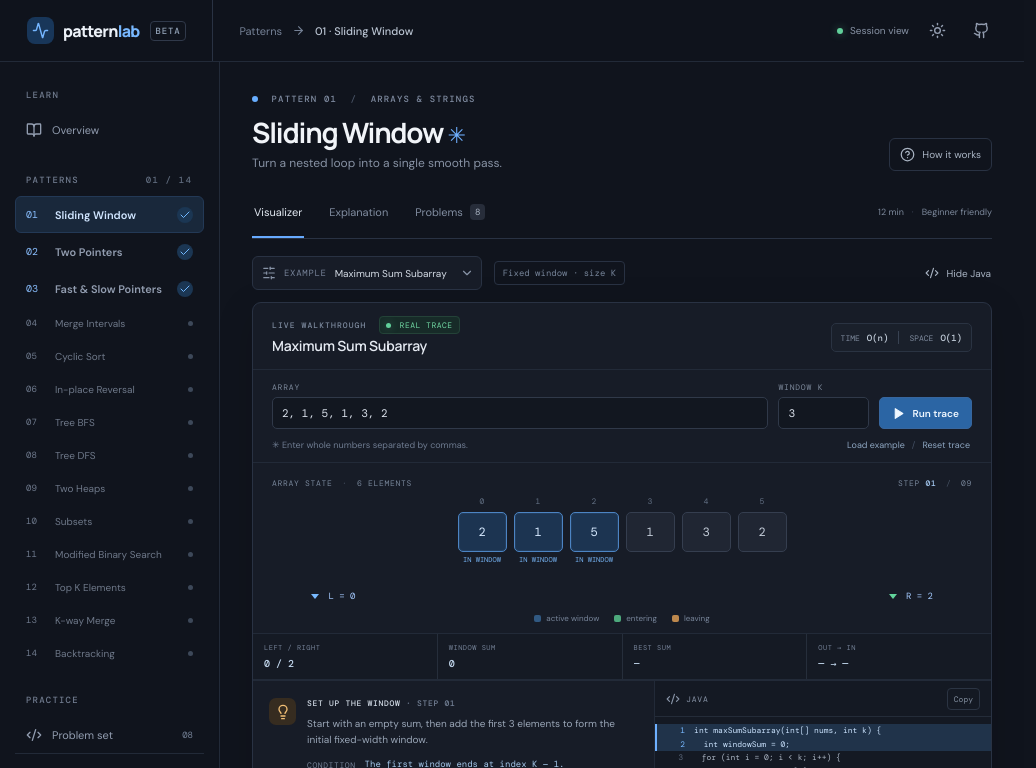
Test: PatternLab learning interface › validates custom Two Pointers input and preserves a valid trace
Click the button "02 Two Pointers" at coordinates (110, 252), box [15, 233, 204, 270]
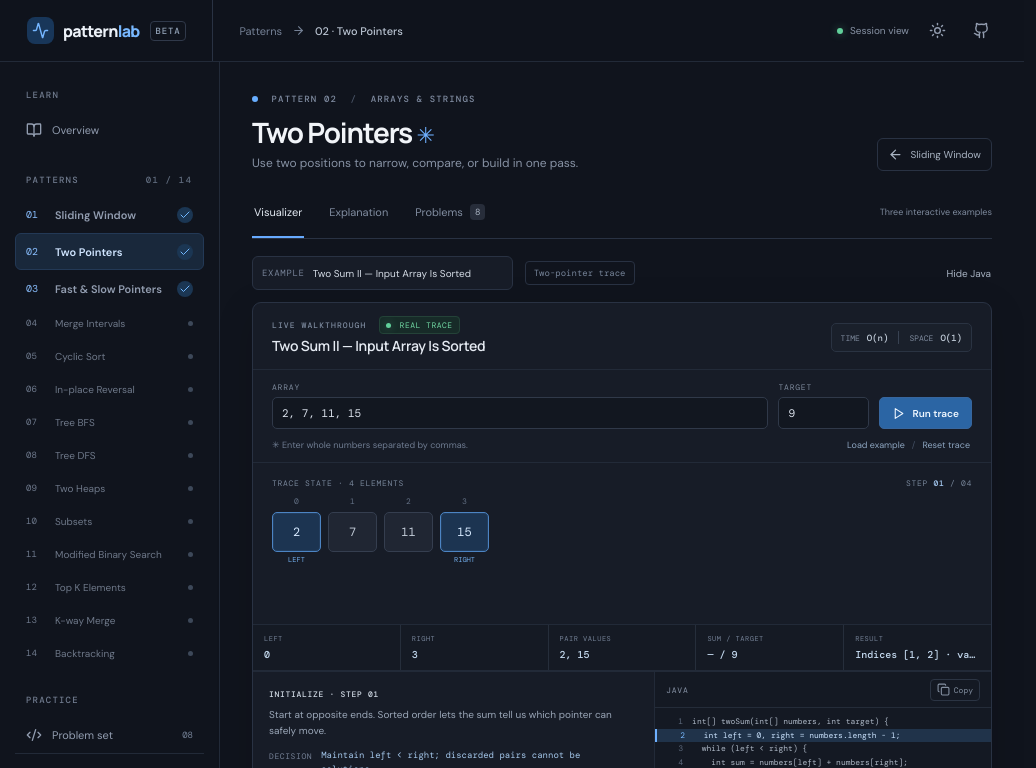
Replace the text in the field named "Array input" with "3, 1" at coordinates (520, 413), box [272, 397, 768, 429]
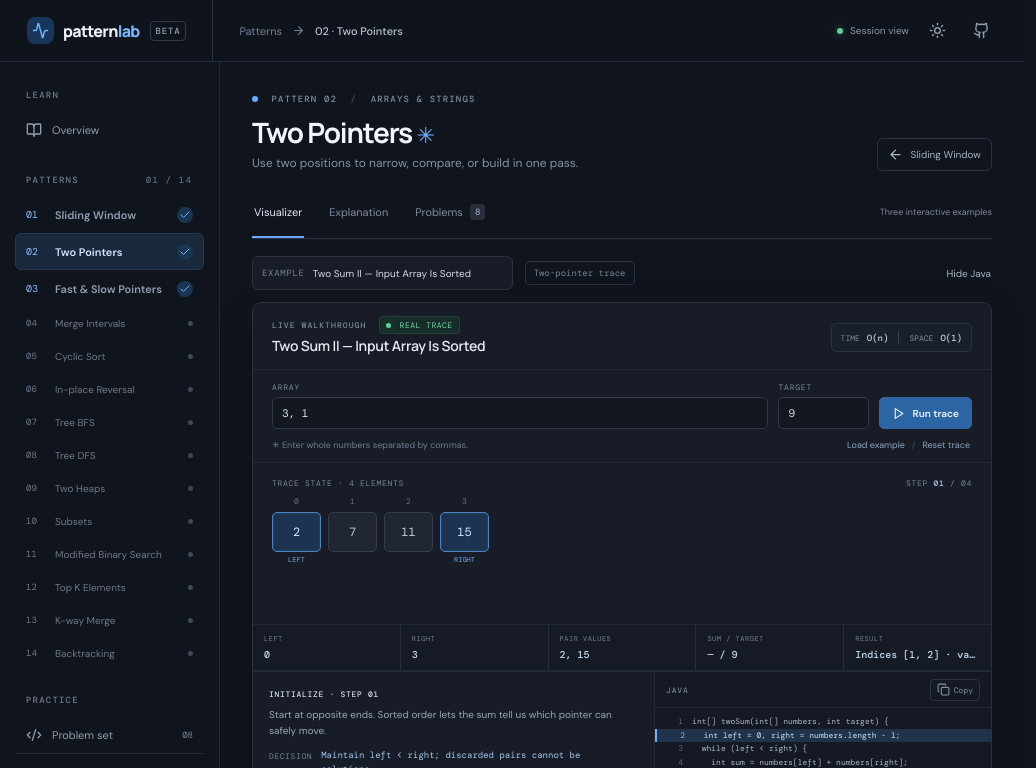
Click the button "Run trace" at coordinates (926, 413), box [880, 397, 972, 429]
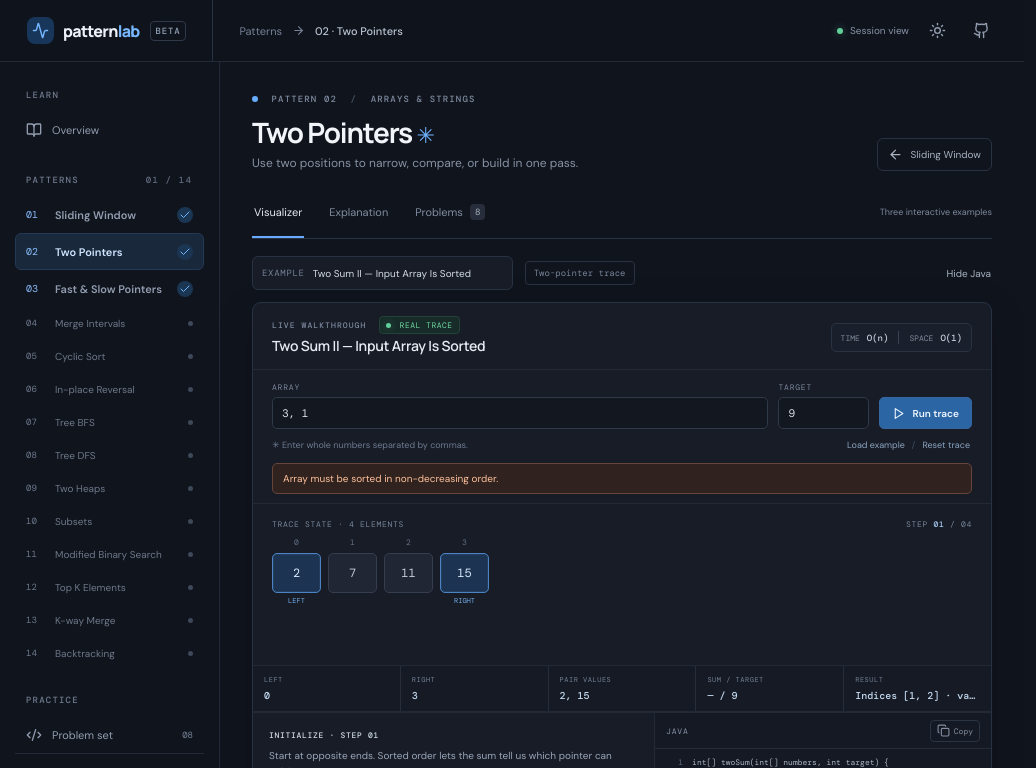
Expected: the text "Indices [1, 2] · values [2, 7]" is shown 2 times
Expected: the message shows "sorted", [283, 472, 498, 485]
